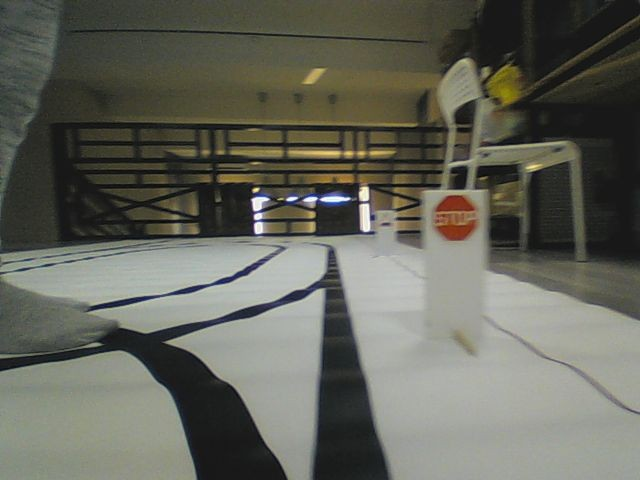Stop: (433, 194, 479, 243)
